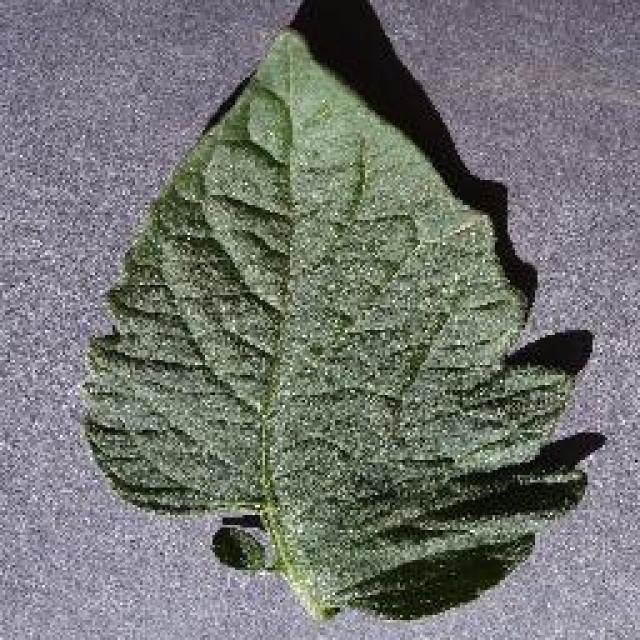Tomato healthy leaf: (81, 32, 589, 608)
